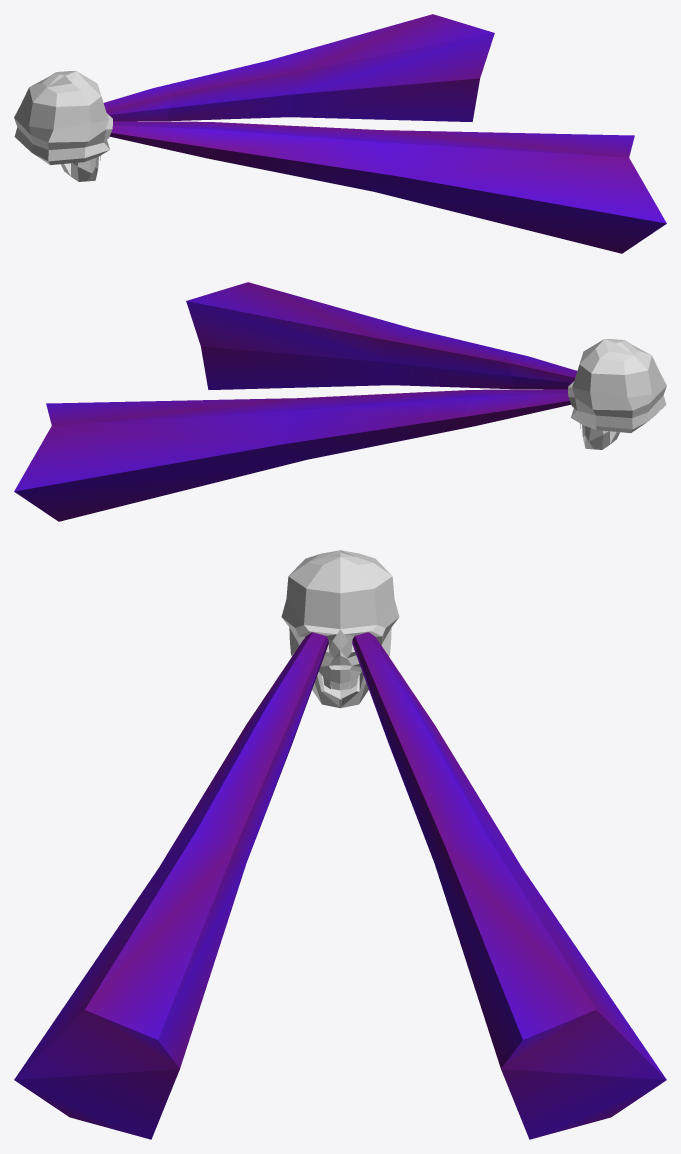
The model's file is skull.glb.
3 renders of one model, top to bottom at view 1: azimuth 30°, elevation 25°; view 2: azimuth 150°, elevation 25°; view 3: azimuth 270°, elevation 25°, orthographic. The views are drawn at different scales.
Parts seen in each view (by area): view 1: Cube.002, Cube, Cube.001; view 2: Cube.002, Cube, Cube.001; view 3: Cube.002, Cube, Cube.001.
Boxes of the visible parts, <box> form: Cube.002: <box>103,14,666,253</box>; Cube: <box>14,71,112,165</box>; Cube.001: <box>61,157,98,181</box>; Cube.002: <box>14,282,577,521</box>; Cube: <box>568,339,666,433</box>; Cube.001: <box>582,425,619,449</box>; Cube.002: <box>14,632,666,1139</box>; Cube: <box>281,550,399,690</box>; Cube.001: <box>312,672,368,708</box>.
Bounding box in the file's own units: 57.58 × 22.44 × 46.62.
